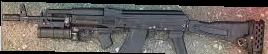gun: (0, 1, 268, 54)
